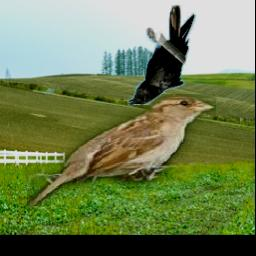Crow: (128, 4, 196, 105)
Sparrow: (27, 94, 216, 206)
